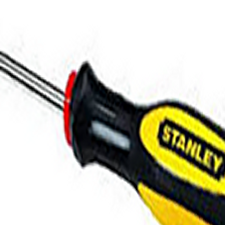Screwdriver: (1, 38, 225, 224)
